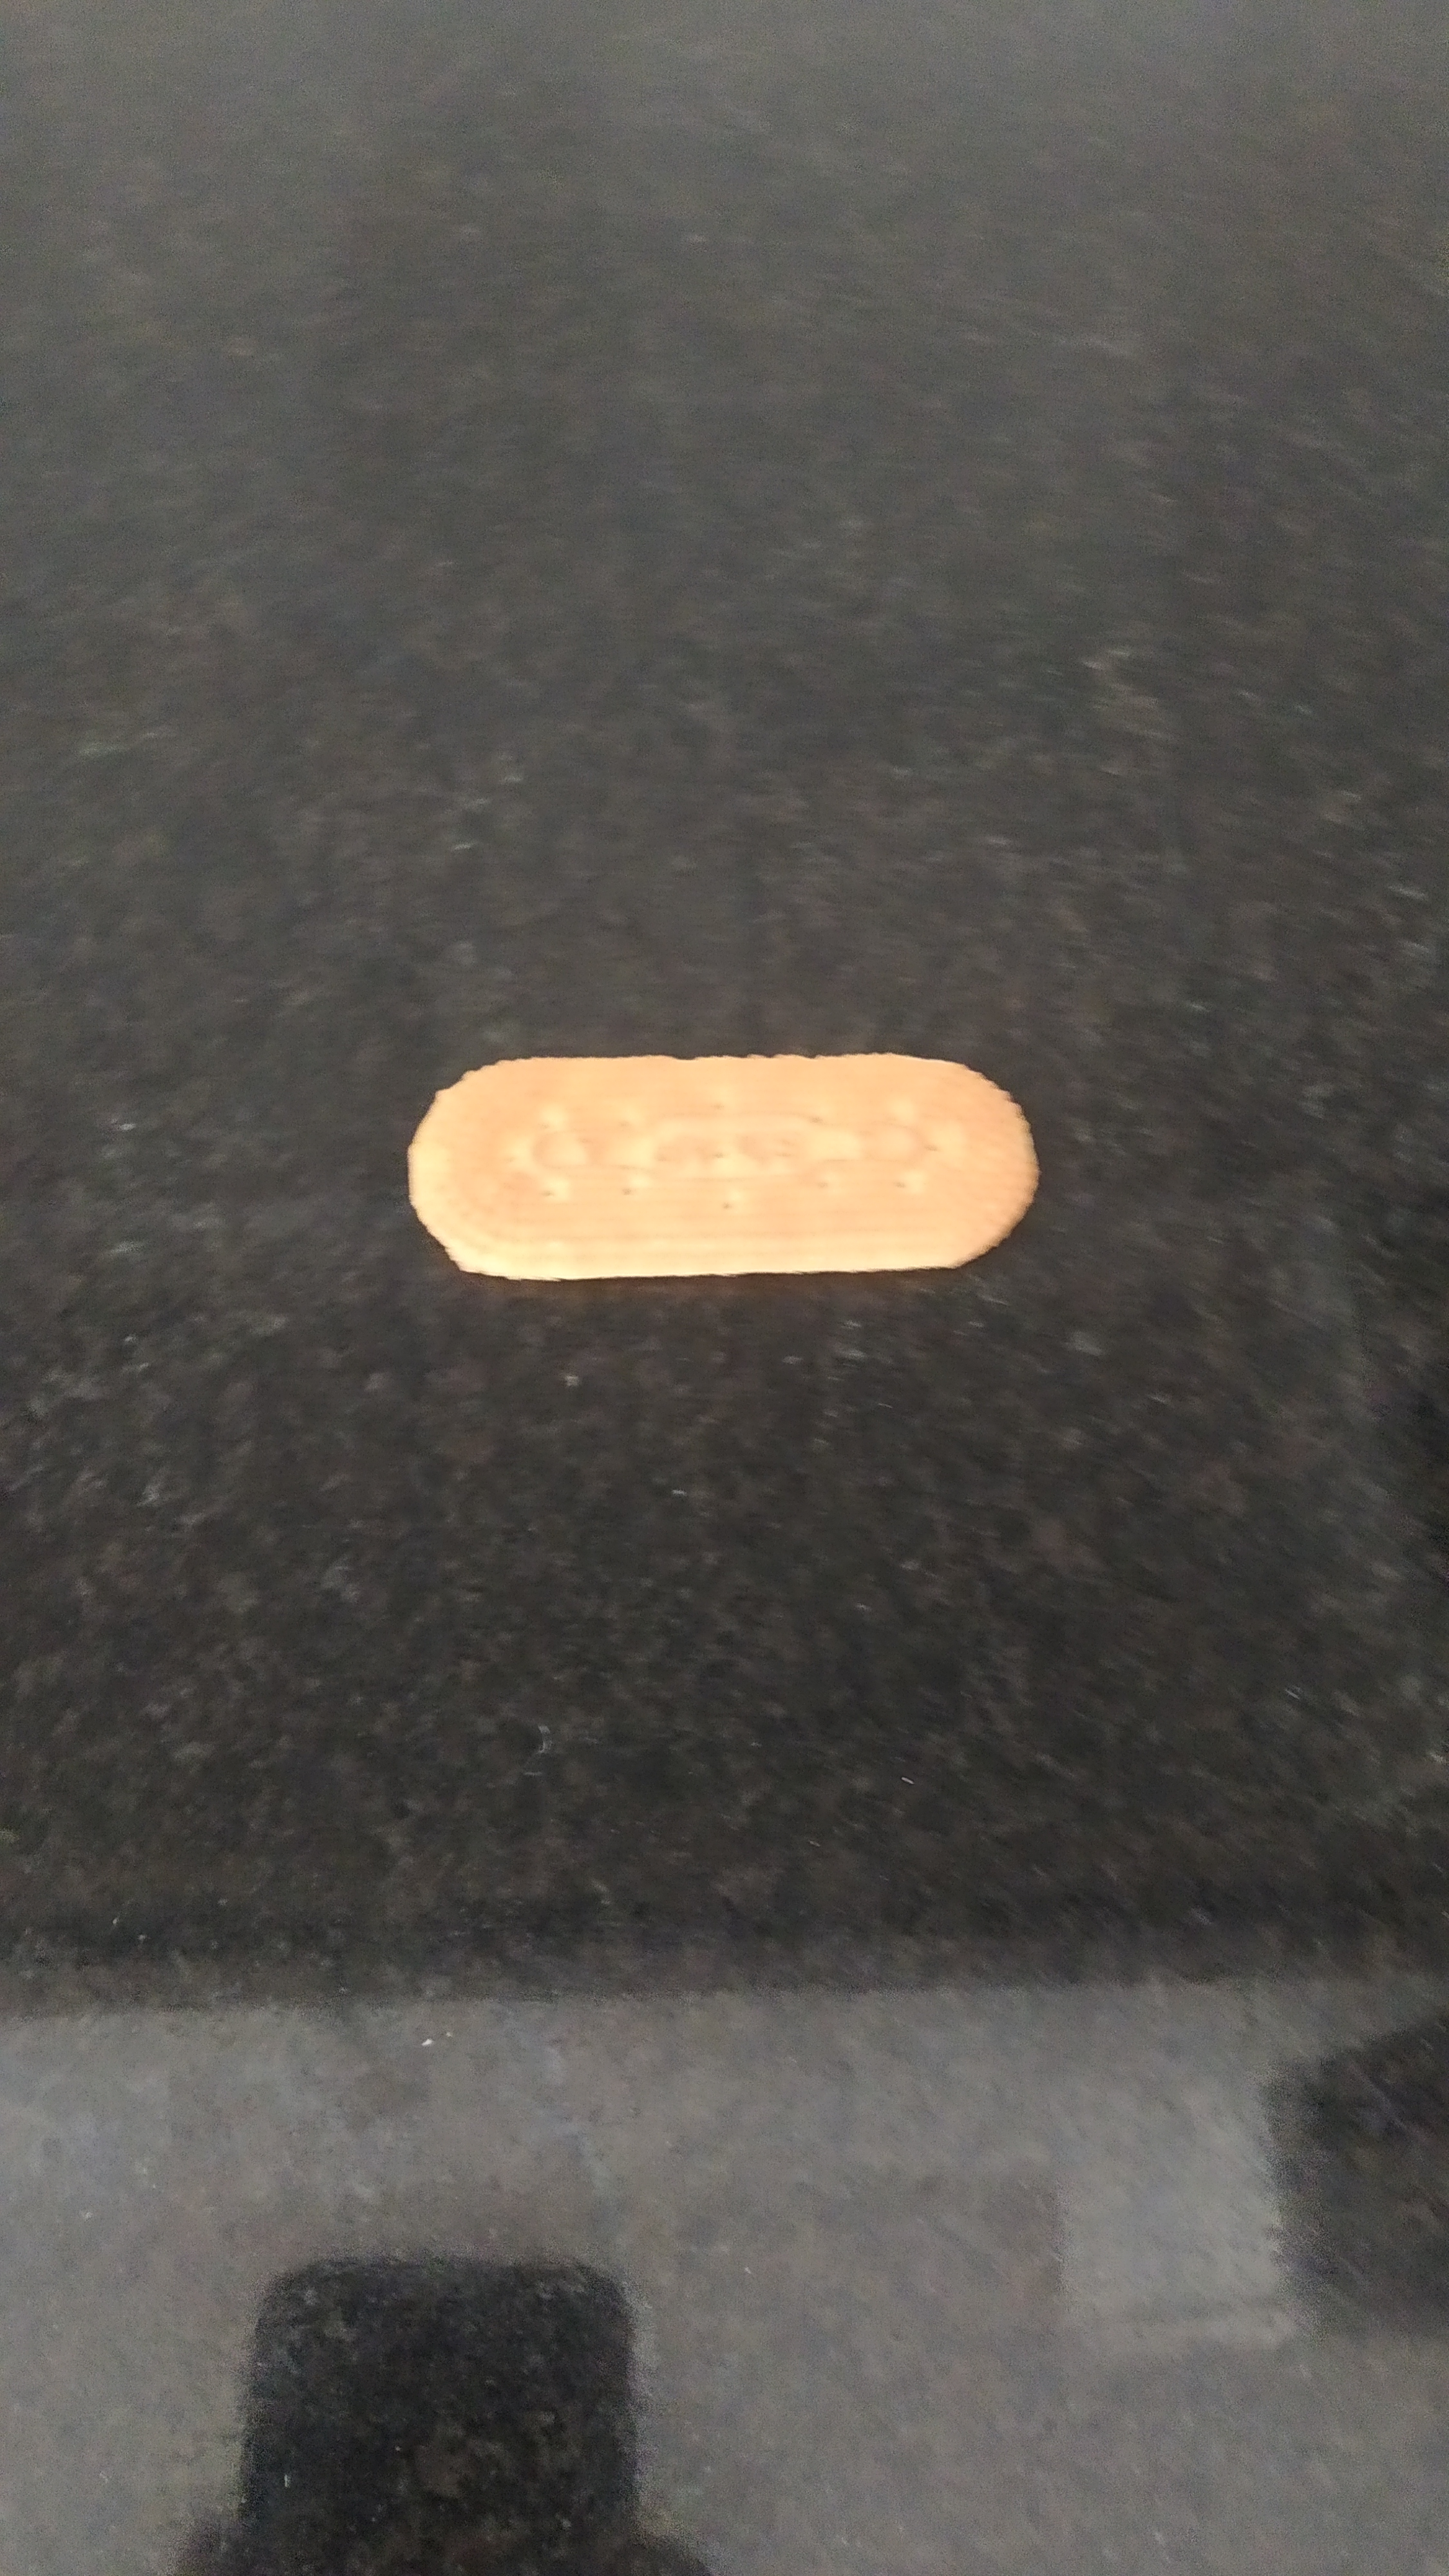solar: (407, 1054, 1039, 1283)
